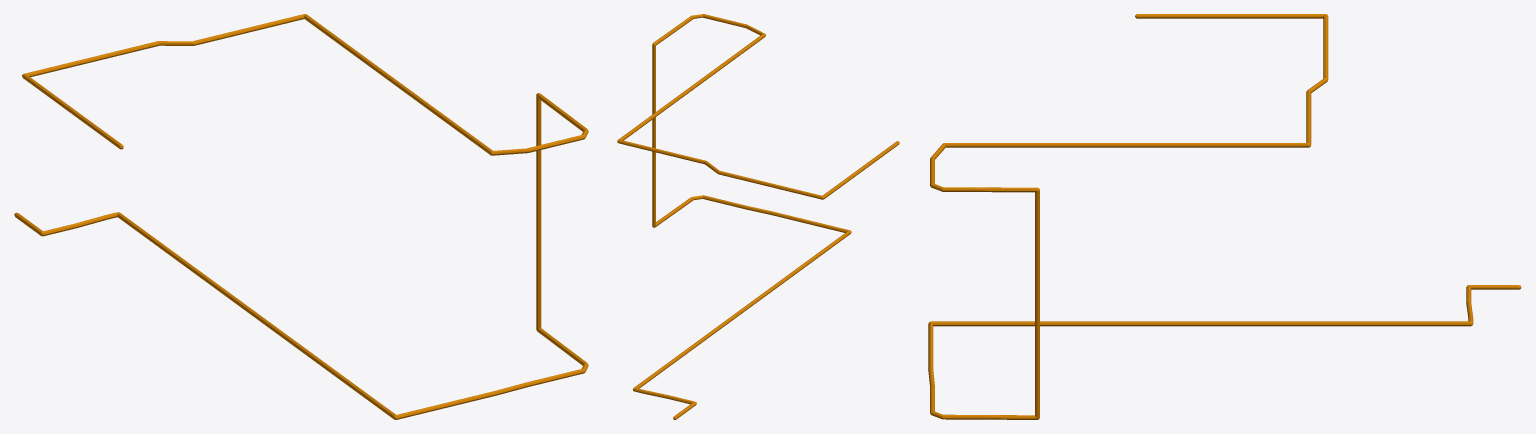
The picture shows the model from 3 angles, left to right: view 1: azimuth 30°, elevation 25°; view 2: azimuth 150°, elevation 25°; view 3: azimuth 270°, elevation 25°; orthographic projection. The views are drawn at different scales.
Size of the model in its own units: 1657 by 1020 by 2362.
